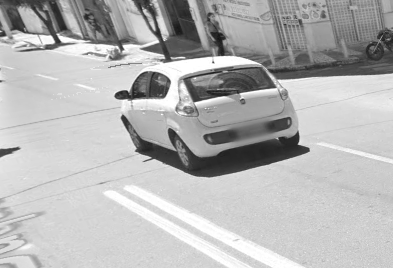car: (112, 47, 309, 176)
